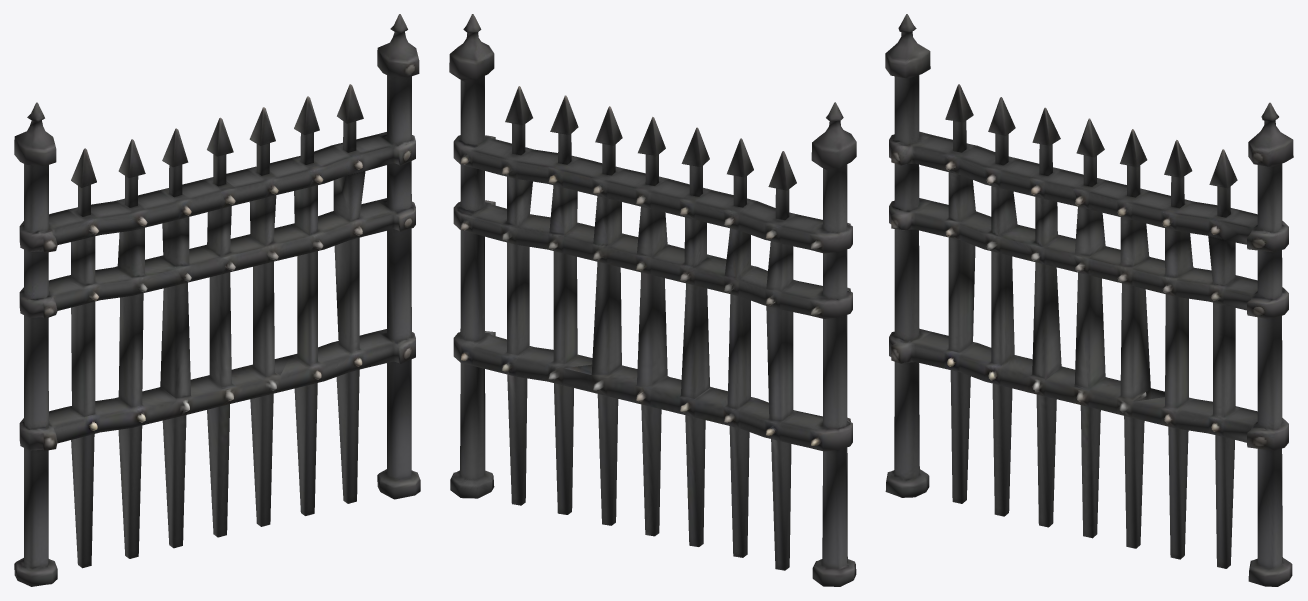
The model's file is Bank_IronBars.glb.
3 views of the same model, side by side, from view 1: azimuth 30°, elevation 25°; view 2: azimuth 150°, elevation 25°; view 3: azimuth 330°, elevation 25° (orthographic).
Visible parts, largest first — view 1: tripo_node_141d1e0c-1740-4888-8ee5-d3c37a4f3a2c; view 2: tripo_node_141d1e0c-1740-4888-8ee5-d3c37a4f3a2c; view 3: tripo_node_141d1e0c-1740-4888-8ee5-d3c37a4f3a2c.
Boxes of the visible parts, <box> form: tripo_node_141d1e0c-1740-4888-8ee5-d3c37a4f3a2c: <box>14,14,420,586</box>; tripo_node_141d1e0c-1740-4888-8ee5-d3c37a4f3a2c: <box>449,14,856,586</box>; tripo_node_141d1e0c-1740-4888-8ee5-d3c37a4f3a2c: <box>885,14,1293,586</box>.
Bounding box in the file's own units: 0.8808 × 1 × 0.1265.
1 material, 1 textured.
